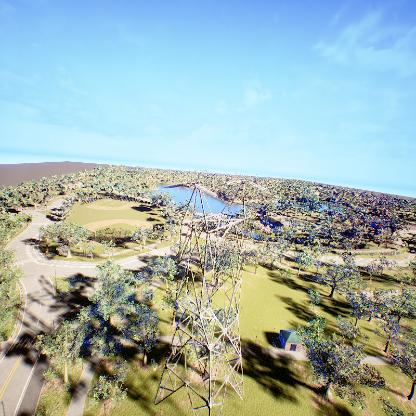tower: (148, 174, 271, 412)
